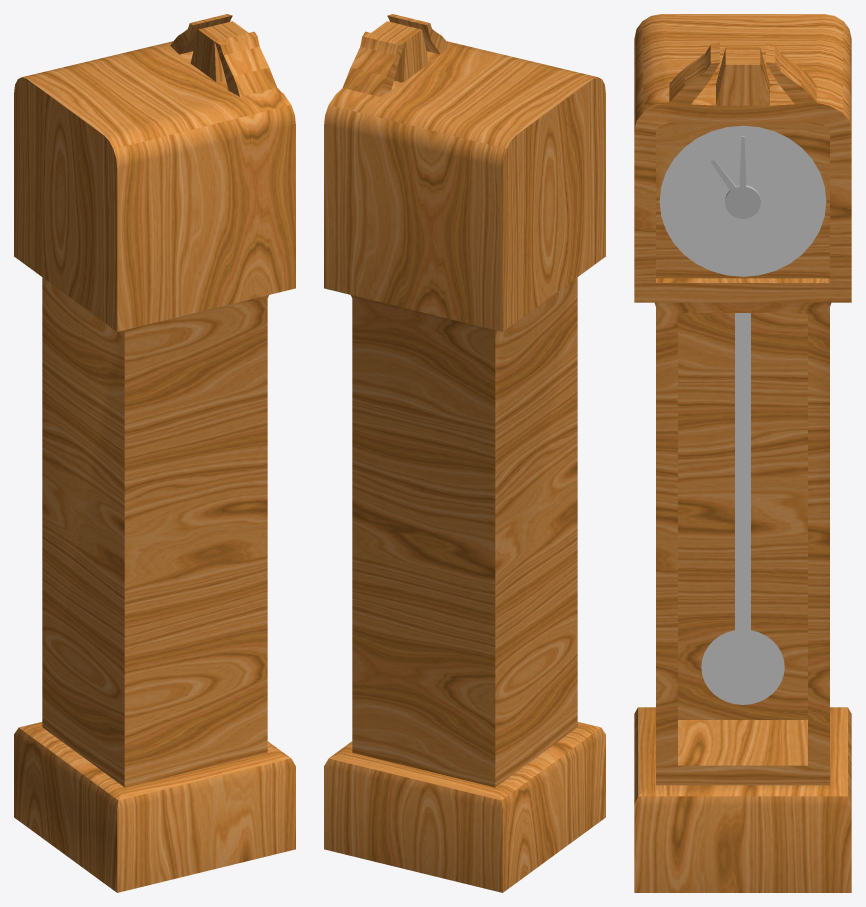
File: GrandfatherClock.fbx
3 views of the same model, side by side, from view 1: azimuth 30°, elevation 25°; view 2: azimuth 150°, elevation 25°; view 3: azimuth 270°, elevation 25° (orthographic). The views are drawn at different scales.
Visible parts, largest first — view 1: Grandfather Clock; view 2: Grandfather Clock; view 3: Grandfather Clock.
Boxes of the visible parts, x1,y1,x2,y2 form: Grandfather Clock: [14, 14, 295, 892]; Grandfather Clock: [324, 14, 605, 892]; Grandfather Clock: [634, 14, 851, 892].
Size of the model in its own units: 200 by 843 by 200.
